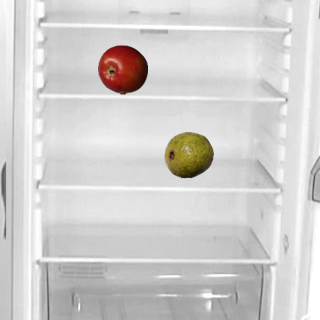Apple Braeburn: (97, 44, 147, 94)
Guava: (163, 129, 213, 179)
